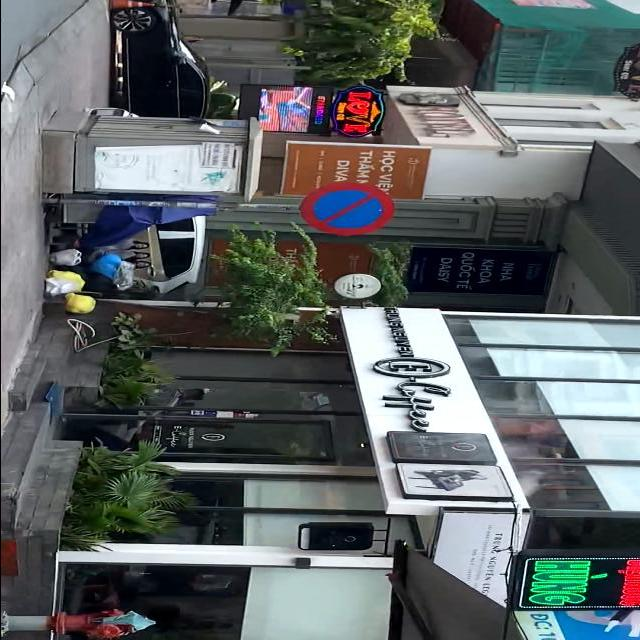P-131a: (300, 182, 394, 234)
